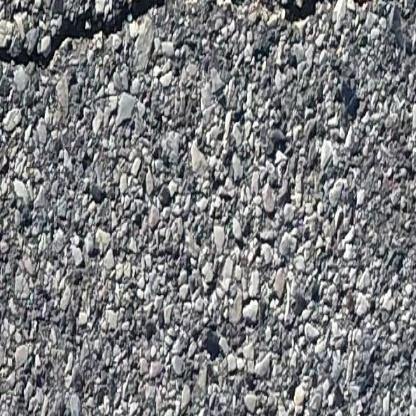Cracks: (0, 0, 416, 98)
